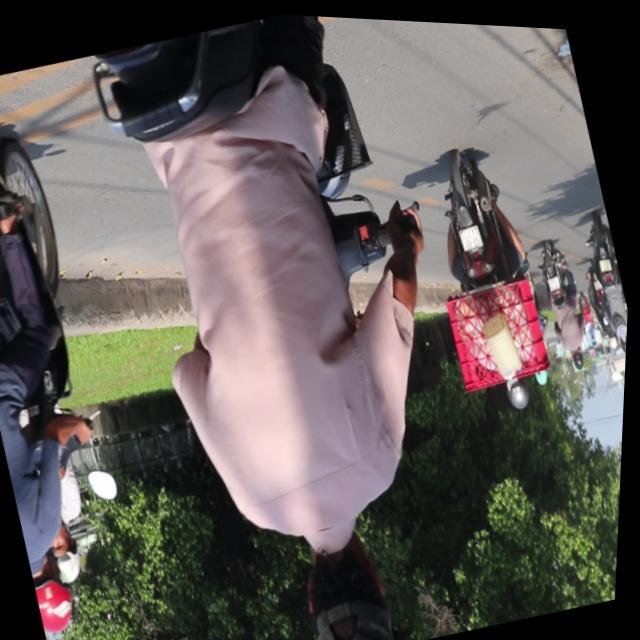helmet: (31, 552, 87, 636), (49, 522, 92, 586), (504, 366, 535, 407)
licenseplate: (65, 4, 536, 640), (0, 90, 167, 640), (409, 133, 570, 420)
motorcyclist: (291, 515, 408, 640)
nohelmet: (458, 219, 484, 247)
